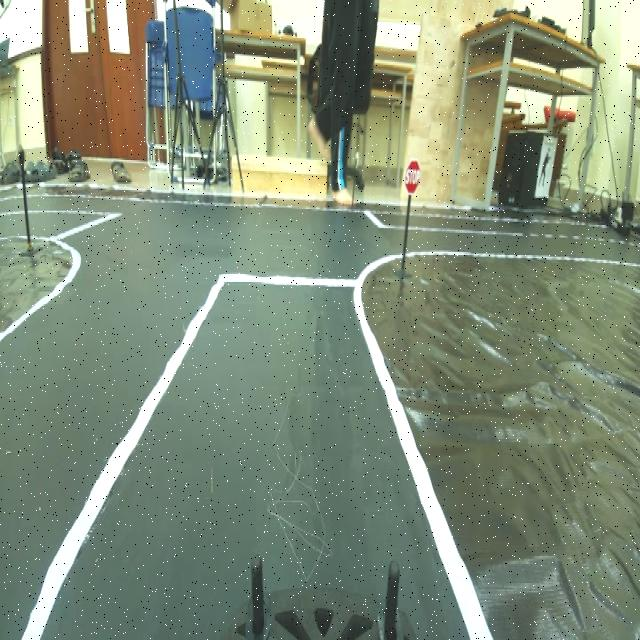stop: (399, 150, 427, 204)
